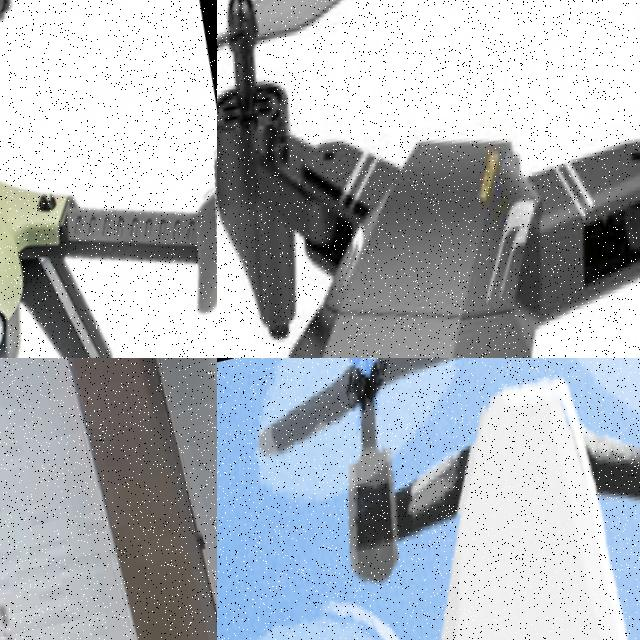drone: (217, 0, 640, 358), (217, 358, 640, 640), (0, 0, 217, 358)
